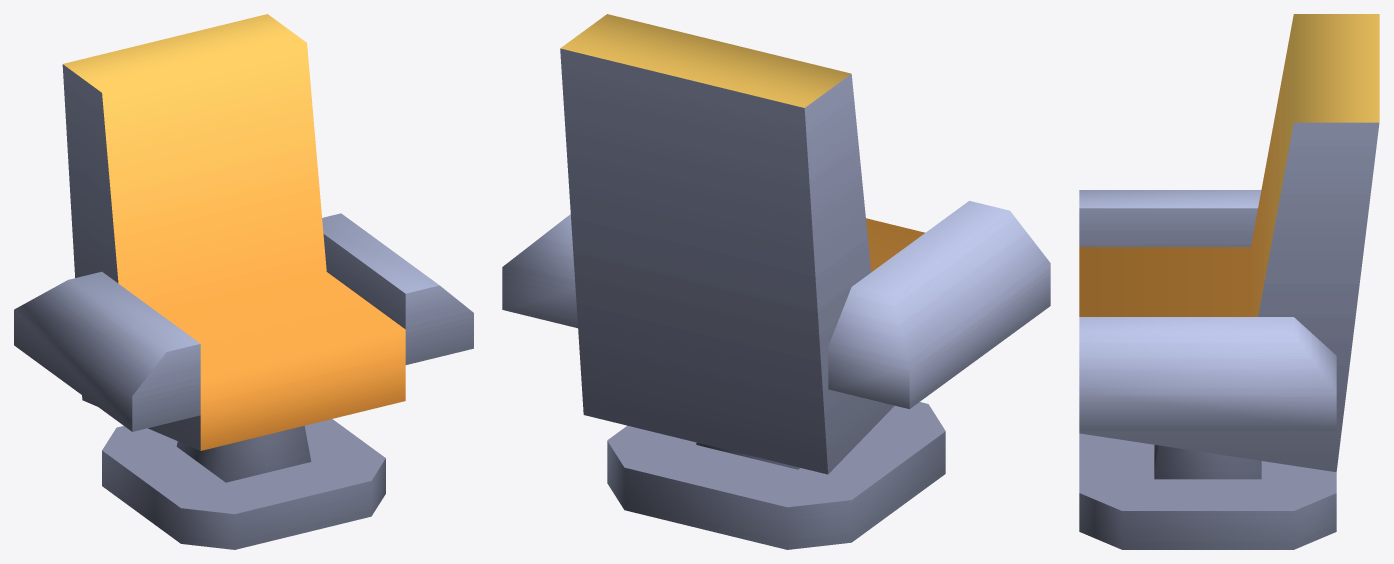
File: chair-armrest.glb
3 views of the same model, side by side, from view 1: azimuth 30°, elevation 25°; view 2: azimuth 150°, elevation 25°; view 3: azimuth 270°, elevation 25° (orthographic). The views are drawn at different scales.
Parts seen in each view (by area): view 1: chair-armrest; view 2: chair-armrest; view 3: chair-armrest.
Part boxes in pixels (left/top/right/bottom): chair-armrest: left=14, top=14, right=473, bottom=549; chair-armrest: left=502, top=14, right=1050, bottom=549; chair-armrest: left=1079, top=14, right=1379, bottom=549.
Bounding box in the file's own units: 0.5 × 0.55 × 0.35.
1 material, 1 textured.
